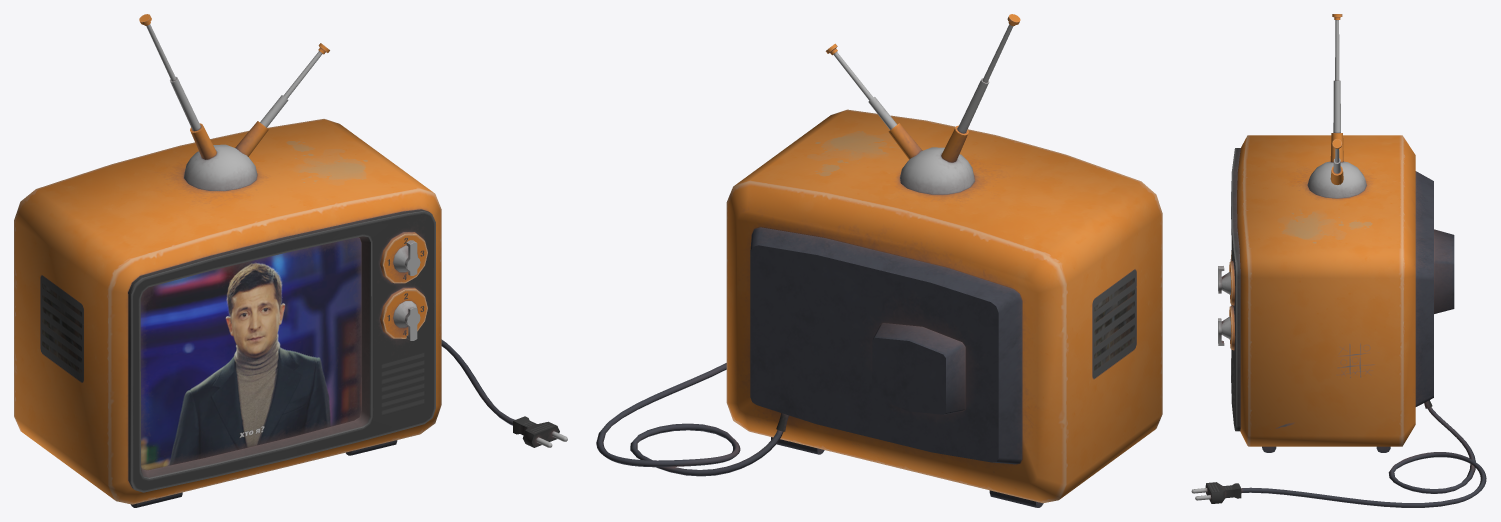
The picture shows the model from 3 angles, left to right: view 1: azimuth 30°, elevation 25°; view 2: azimuth 150°, elevation 25°; view 3: azimuth 270°, elevation 25°; orthographic projection. The views are drawn at different scales.
Parts seen in each view (by area): view 1: tv_base_low, screen_low, frontal_panel_low, antenn_base_low, switch_low.001, switch_low, plug_low, cable_low; view 2: tv_base_low, back_1_low, back_2_low, cable_low, antenn_base_low, leg_low; view 3: tv_base_low, back_1_low, cable_low, frontal_panel_low, back_2_low, antenn_base_low, plug_low, switch_low, switch_low.001, antenn2_low.
Part boxes in pixels (x1,y1,x2,y2): tv_base_low: [14, 119, 441, 504]; screen_low: [140, 237, 361, 470]; frontal_panel_low: [128, 209, 435, 492]; antenn_base_low: [184, 144, 257, 190]; switch_low.001: [380, 287, 427, 340]; switch_low: [380, 232, 427, 283]; plug_low: [513, 416, 567, 447]; cable_low: [441, 339, 514, 425]; tv_base_low: [726, 109, 1162, 503]; back_1_low: [750, 227, 1022, 464]; back_2_low: [872, 323, 965, 414]; cable_low: [596, 363, 783, 476]; antenn_base_low: [900, 147, 974, 194]; leg_low: [771, 437, 1043, 507]; tv_base_low: [1237, 135, 1415, 446]; back_1_low: [1415, 171, 1433, 406]; cable_low: [1241, 407, 1486, 507]; frontal_panel_low: [1231, 148, 1240, 431]; back_2_low: [1434, 229, 1454, 313]; antenn_base_low: [1307, 161, 1366, 198]; plug_low: [1191, 482, 1241, 503]; switch_low: [1218, 261, 1235, 305]; switch_low.001: [1218, 305, 1235, 350]; antenn2_low: [1333, 80, 1340, 132].
Bounding box in the file's own units: 2.54 × 2.49 × 1.85.
2 materials, 2 textured.
